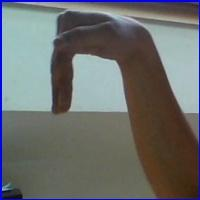del: (42, 10, 162, 124)
